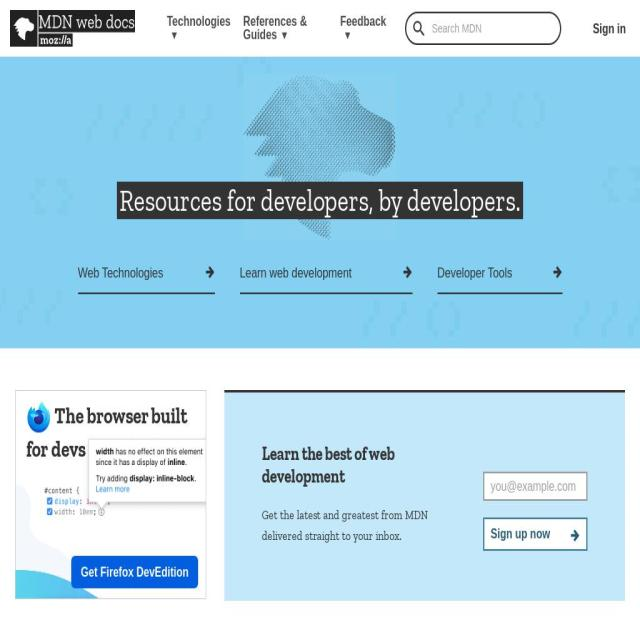button: (16, 391, 206, 598), (240, 253, 412, 294), (77, 253, 215, 294), (437, 253, 562, 294), (10, 10, 135, 47), (236, 7, 334, 50), (71, 556, 198, 588), (483, 517, 588, 551), (161, 7, 237, 50), (333, 7, 392, 50)
field: (483, 472, 588, 501), (427, 17, 555, 40)
heading: (117, 182, 524, 219), (262, 442, 471, 488)
image: (10, 10, 135, 47)
link: (26, 401, 198, 462), (592, 18, 626, 39)
text: (262, 504, 471, 546), (239, 265, 352, 281), (78, 265, 164, 281), (437, 265, 512, 281), (490, 527, 550, 541)
